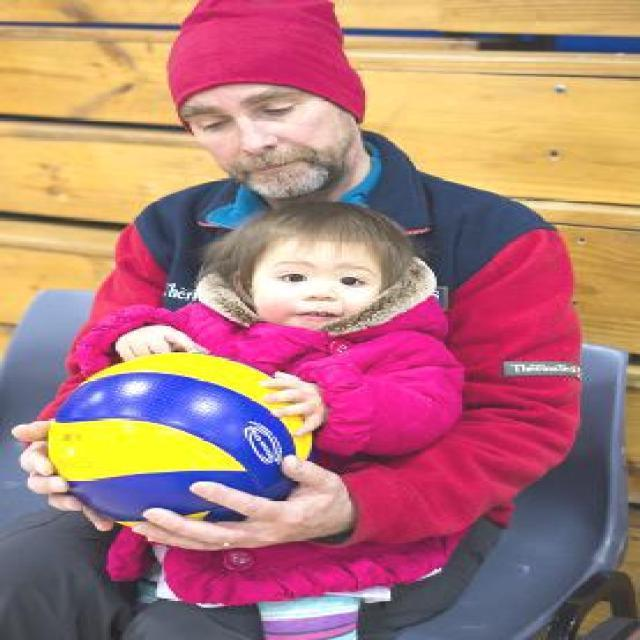volleyball: (47, 352, 317, 529)
